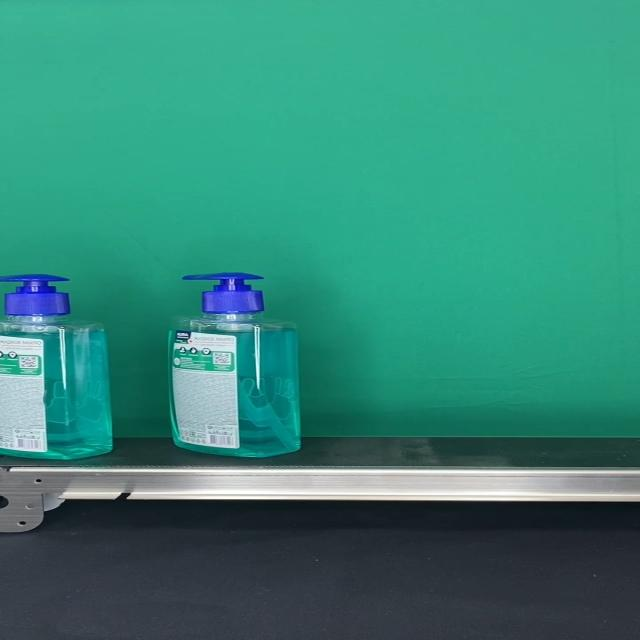Bottle: (164, 273, 300, 458), (0, 273, 113, 459)
Cap: (182, 272, 264, 314), (1, 274, 70, 316)
